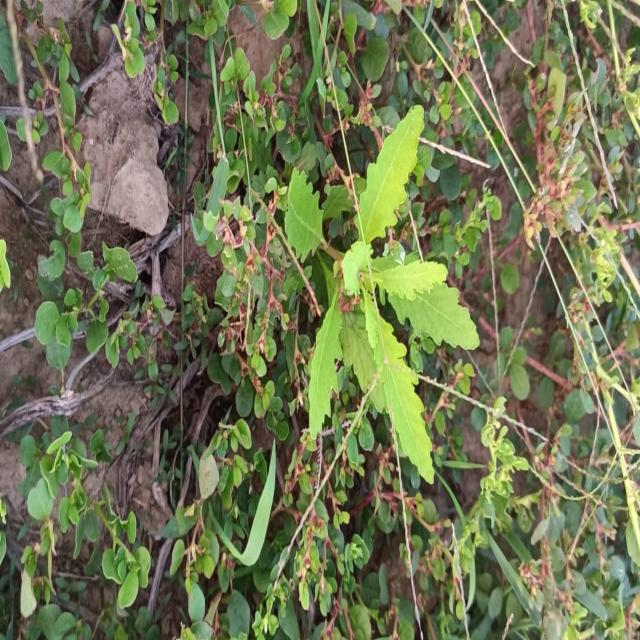weed: (285, 104, 480, 483)
